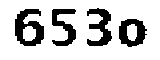5: (84, 4, 117, 55), (50, 7, 81, 49)
6: (13, 7, 46, 48)
o: (116, 16, 151, 49)
